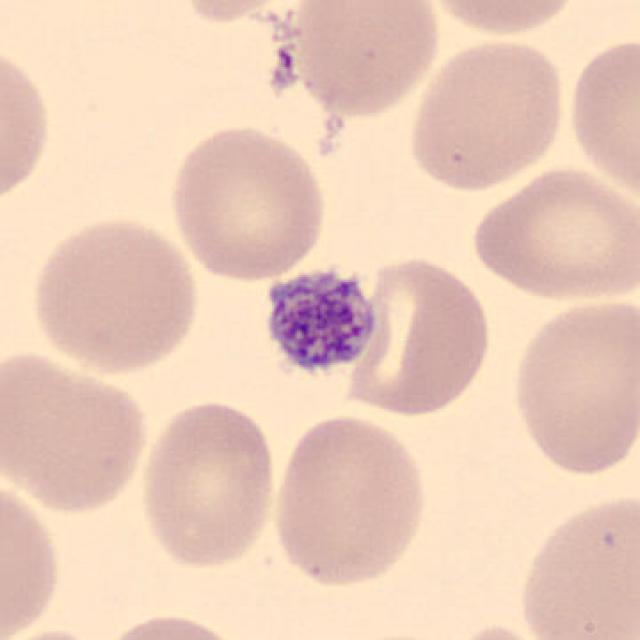Platelets: (258, 264, 382, 388)
RBC: (267, 409, 432, 592), (325, 250, 498, 422), (25, 212, 204, 377), (164, 120, 330, 286), (404, 34, 570, 195), (0, 346, 153, 516), (135, 395, 281, 573), (505, 291, 638, 483), (466, 162, 638, 303), (278, 0, 444, 120), (514, 488, 640, 640), (563, 31, 640, 204), (0, 474, 66, 640), (0, 37, 57, 212), (421, 0, 587, 39), (90, 610, 250, 640), (164, 0, 308, 28), (437, 620, 565, 640), (2, 626, 122, 640)
